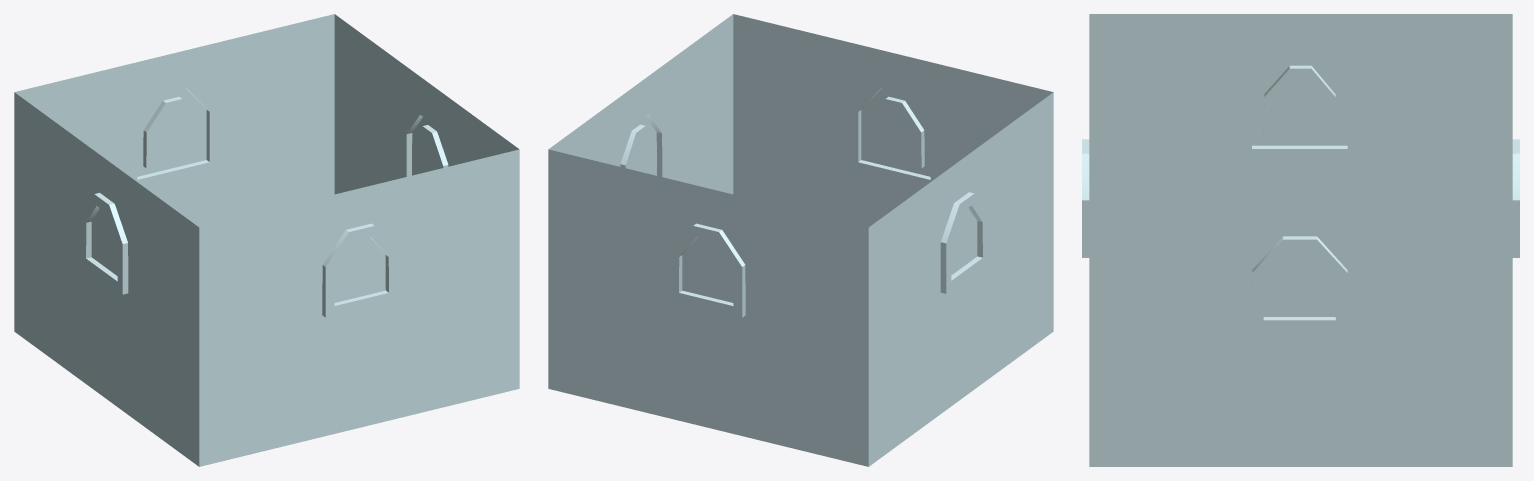
The model's file is SS_Castle_Tower9.fbx.
The picture shows the model from 3 angles, left to right: view 1: azimuth 30°, elevation 25°; view 2: azimuth 150°, elevation 25°; view 3: azimuth 270°, elevation 25°; orthographic projection. The views are drawn at different scales.
Visible parts, largest first — view 1: CastleTower9; view 2: CastleTower9; view 3: CastleTower9.
Part boxes in pixels (x1,y1,x2,y2): CastleTower9: (14,14,519,466); CastleTower9: (548,14,1053,466); CastleTower9: (1082,14,1519,466).
Bounding box in the file's own units: 14.48 × 10 × 14.48.
